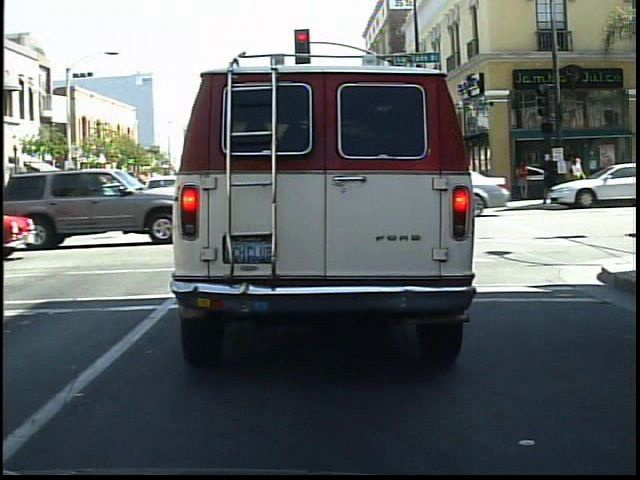person: (539, 151, 562, 209), (513, 156, 533, 202)
